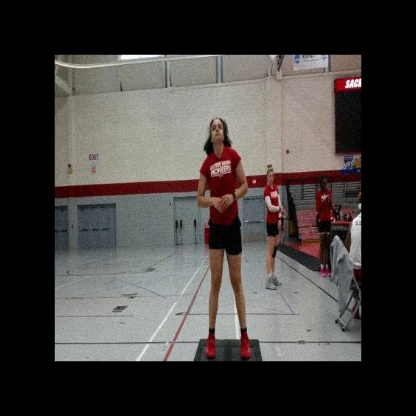lateral_flexion_right: (196, 114, 251, 361)
stance_width_normal: (197, 145, 250, 361)
